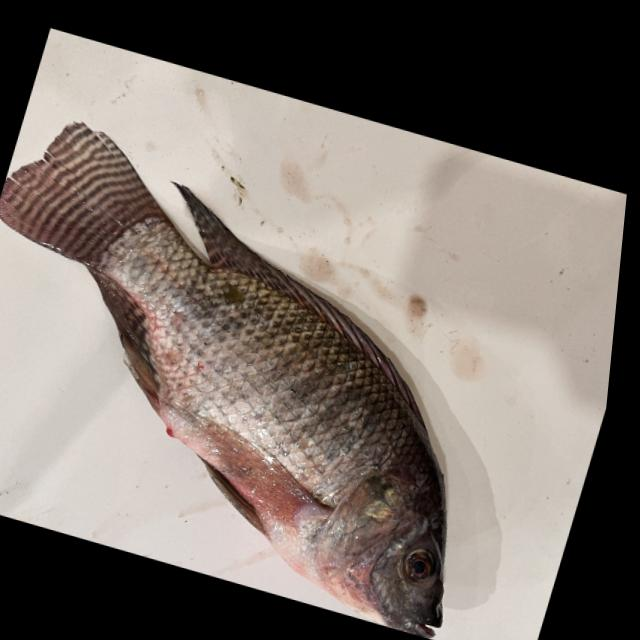Tilapia: (0, 99, 563, 640)
